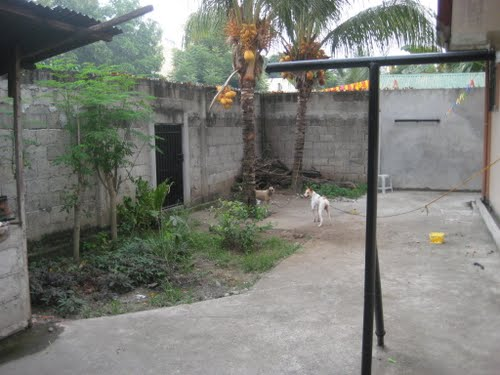container: (429, 229, 446, 246)
